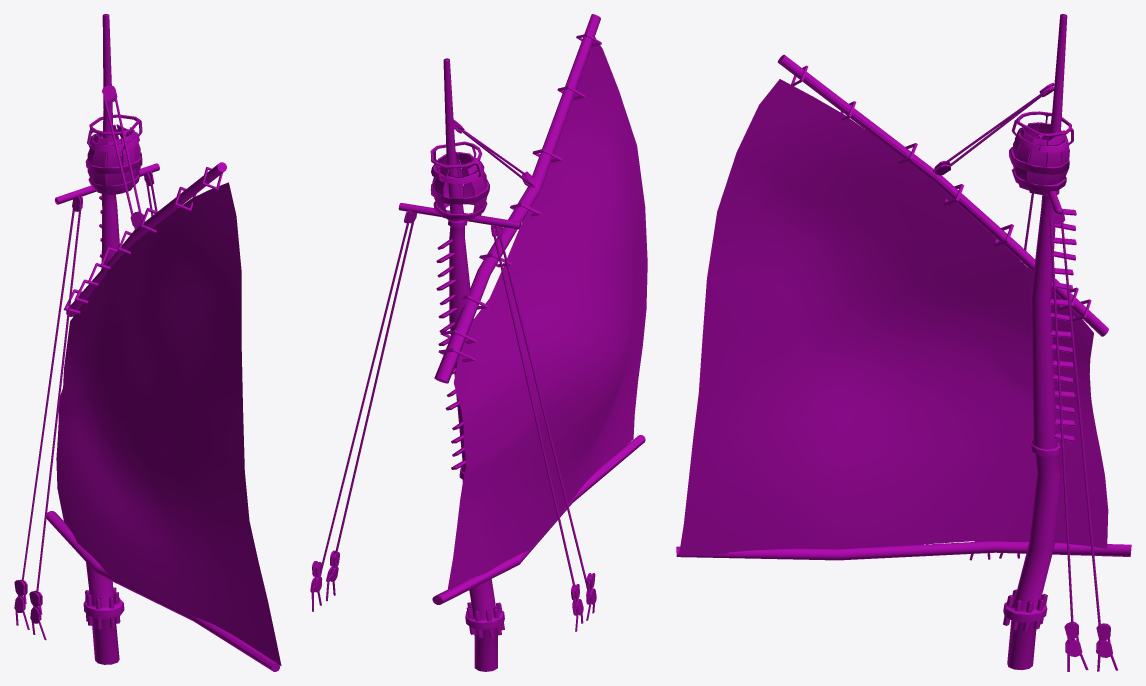
The model's file is Sail_2.fbx.
3 renders of one model, left to right at view 1: azimuth 30°, elevation 25°; view 2: azimuth 150°, elevation 25°; view 3: azimuth 270°, elevation 25°, orthographic. The views are drawn at different scales.
Visible parts, largest first — view 1: Sail_2_Back, Sail_2_Front, Mast, Crows_Nest; view 2: Sail_2_Back, Mast, Sail_2_Front, Crows_Nest; view 3: Sail_2_Back, Sail_2_Front, Mast, Crows_Nest.
Part boxes in pixels (<box>): Sail_2_Back: <box>56,182,281,665</box>; Sail_2_Front: <box>56,183,279,659</box>; Mast: <box>14,14,279,671</box>; Crows_Nest: <box>85,114,142,194</box>; Sail_2_Back: <box>448,37,647,588</box>; Mast: <box>310,14,645,671</box>; Sail_2_Front: <box>448,53,647,588</box>; Crows_Nest: <box>430,141,489,219</box>; Sail_2_Back: <box>679,79,1108,556</box>; Sail_2_Front: <box>679,80,1108,554</box>; Mast: <box>676,14,1131,671</box>; Crows_Nest: <box>1009,111,1073,194</box>.
Size of the model in its own units: 9.28 by 24.25 by 15.16.
